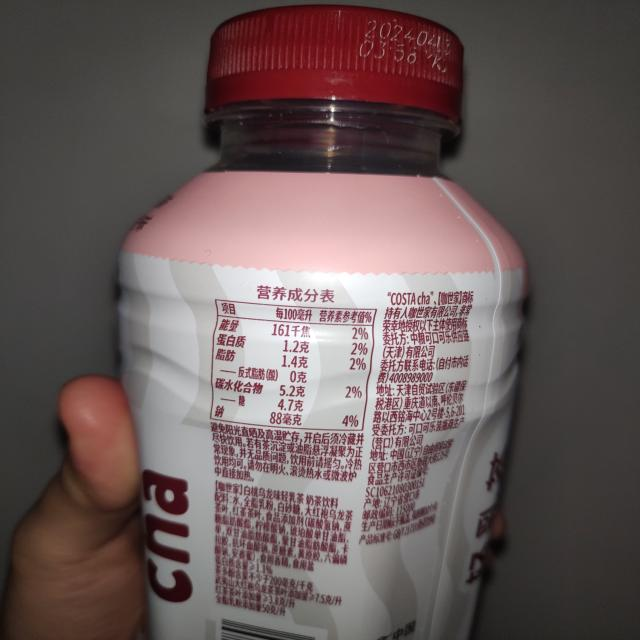bottle: (108, 2, 534, 639)
